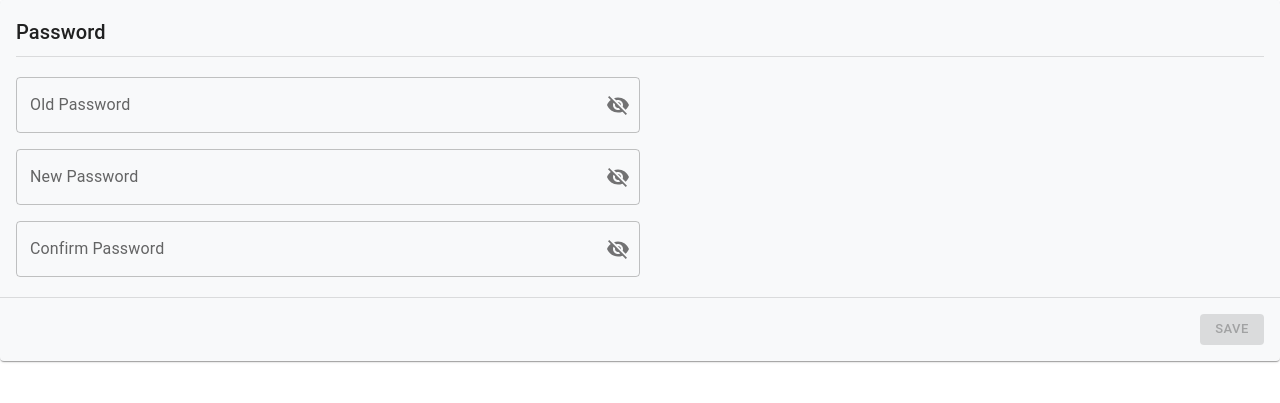
Test: SecurityCard Component › should display error message if new password input not matching confirm password input
Type "Mypassword123!" into the password field labelled "New Password" at (303, 177), box [16,149,590,205]
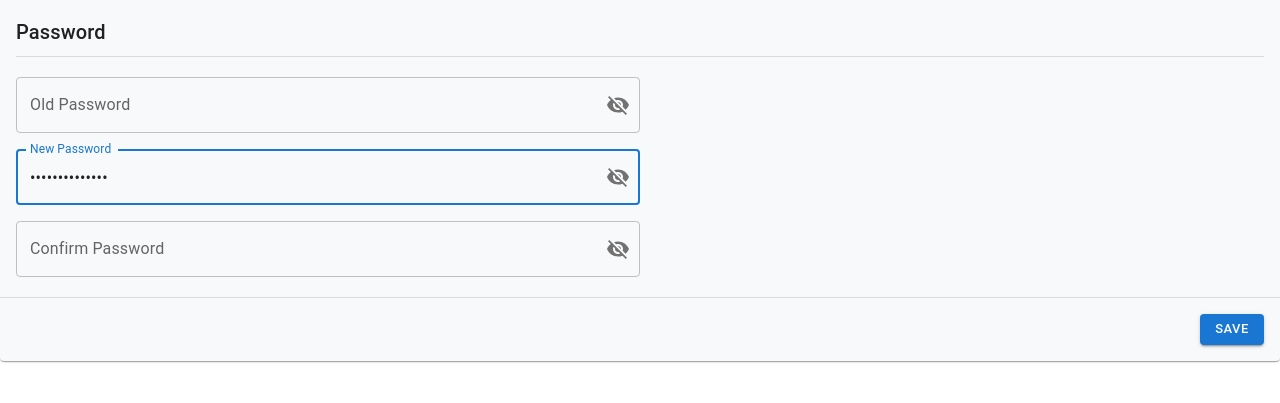
Type "Mypassword1234!" into the password field labelled "Confirm Password" at (303, 249), box [16,221,590,277]
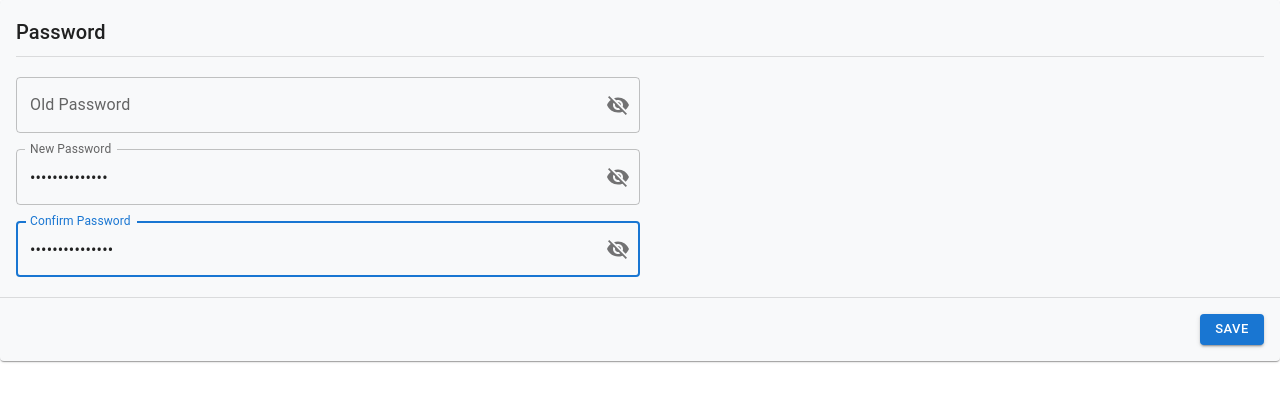
Press Tab
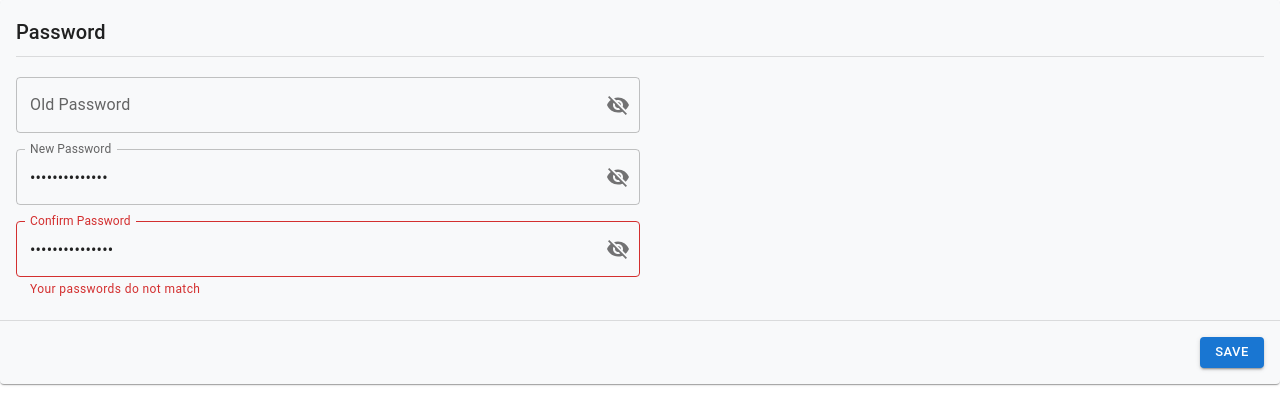
Result: the text "Your passwords do not match" is shown at [30,282,200,296]
